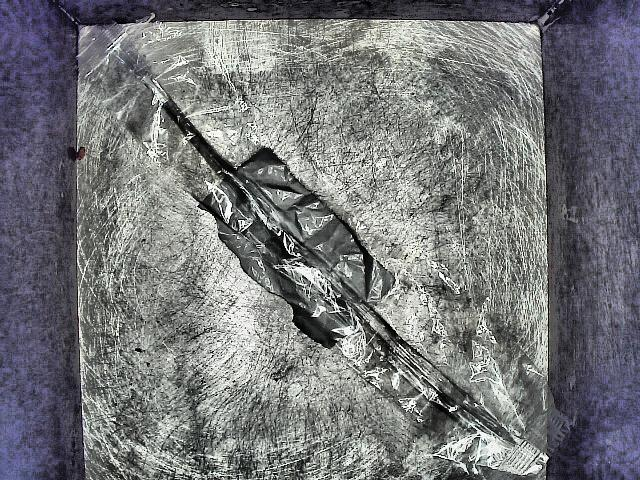Plastic: (95, 23, 536, 480)
